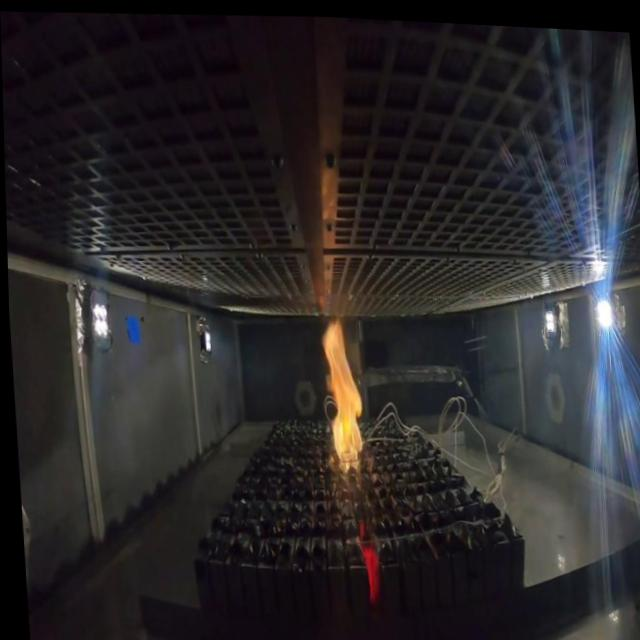fire: (316, 306, 366, 476)
